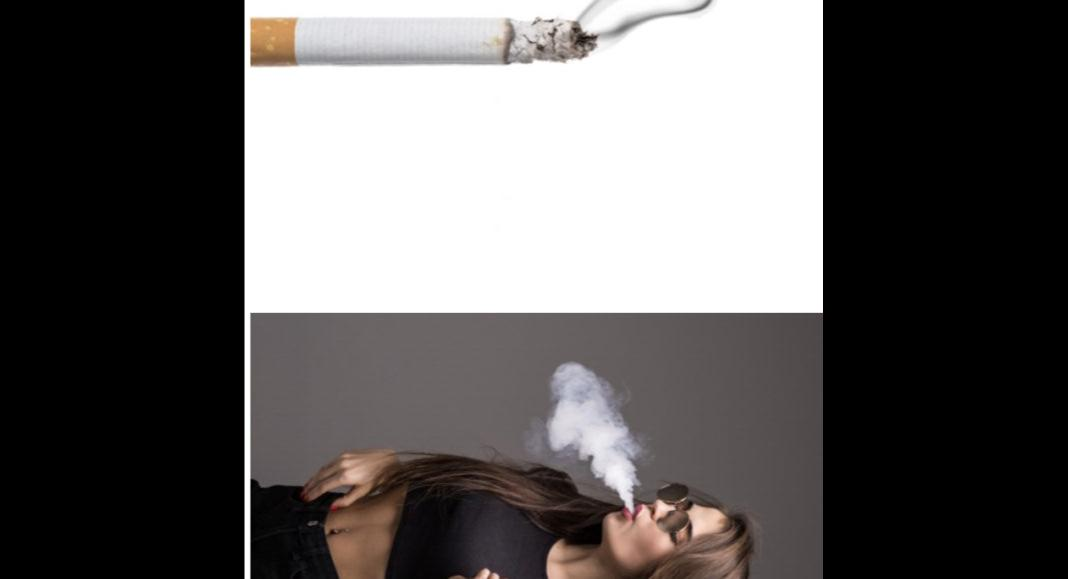controlled_fire: (433, 0, 767, 129), (539, 354, 718, 554)
